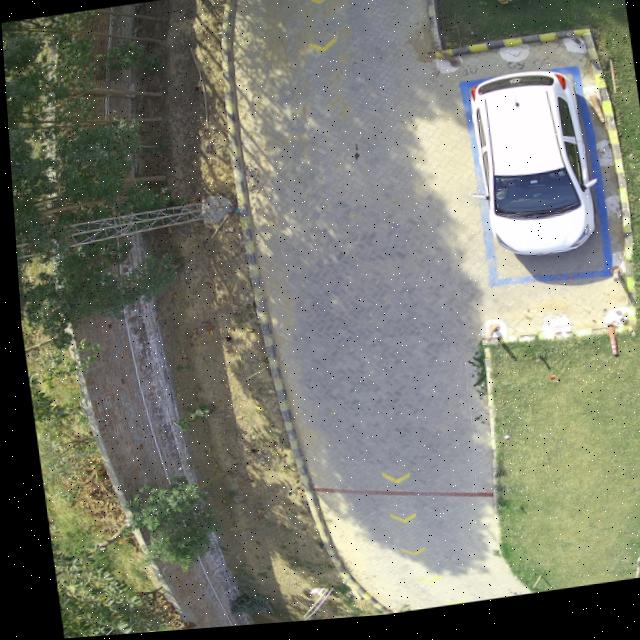car: (468, 78, 592, 262)
